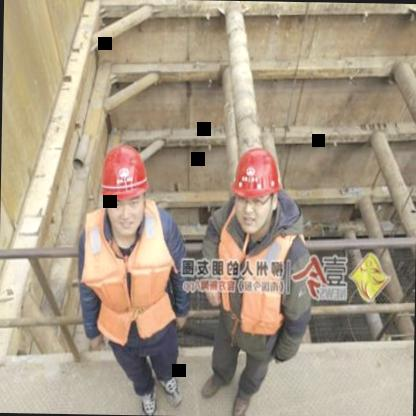helmet: (226, 139, 284, 240), (95, 141, 151, 240)
